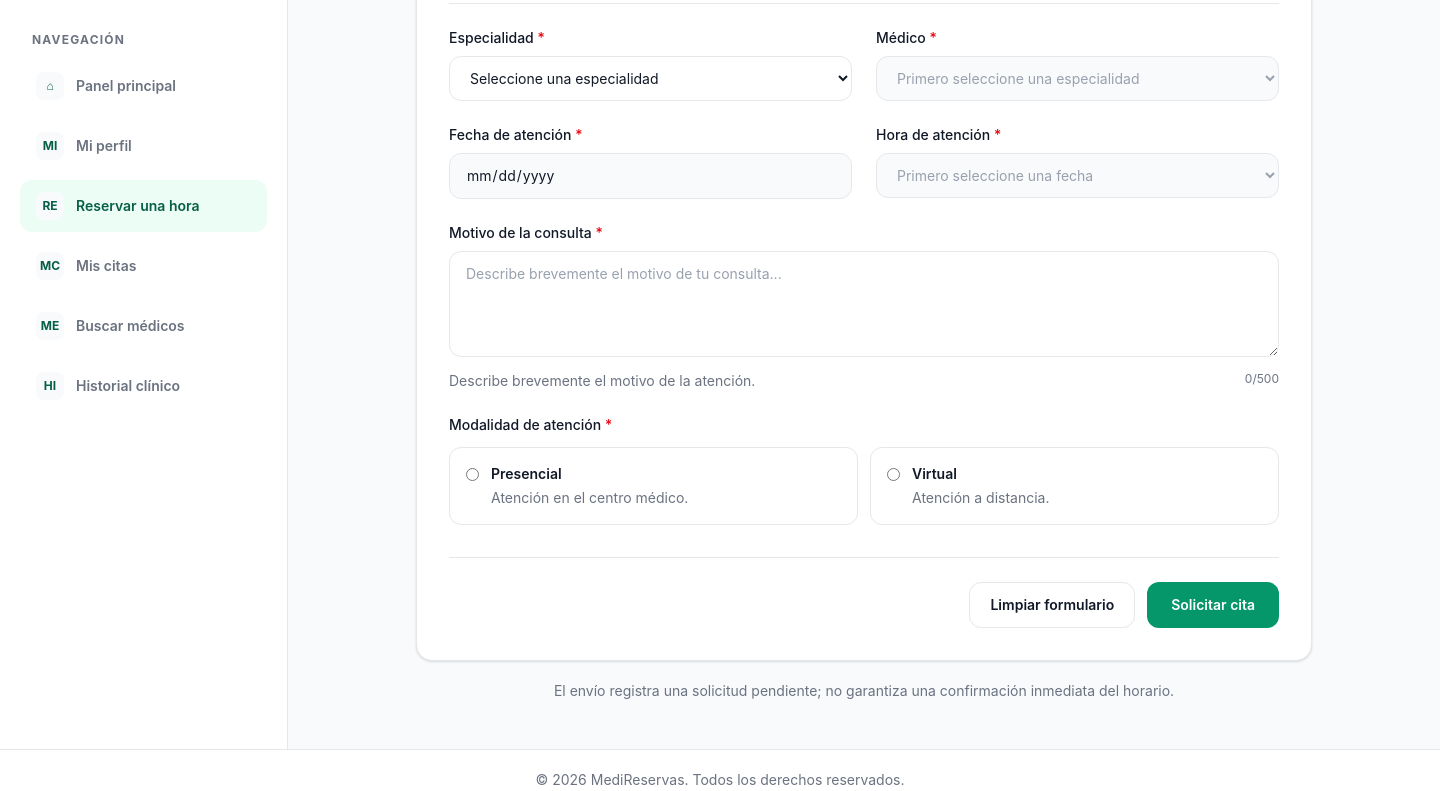
Test: Requisitos de citas en las pantallas por rol › CP-097 · RF-15/RF-16 · paciente valida el formulario y registra una cita
(page scrolled)
Step 1. Click the button "Solicitar cita" → (1213, 605), box [1147,582,1279,628]
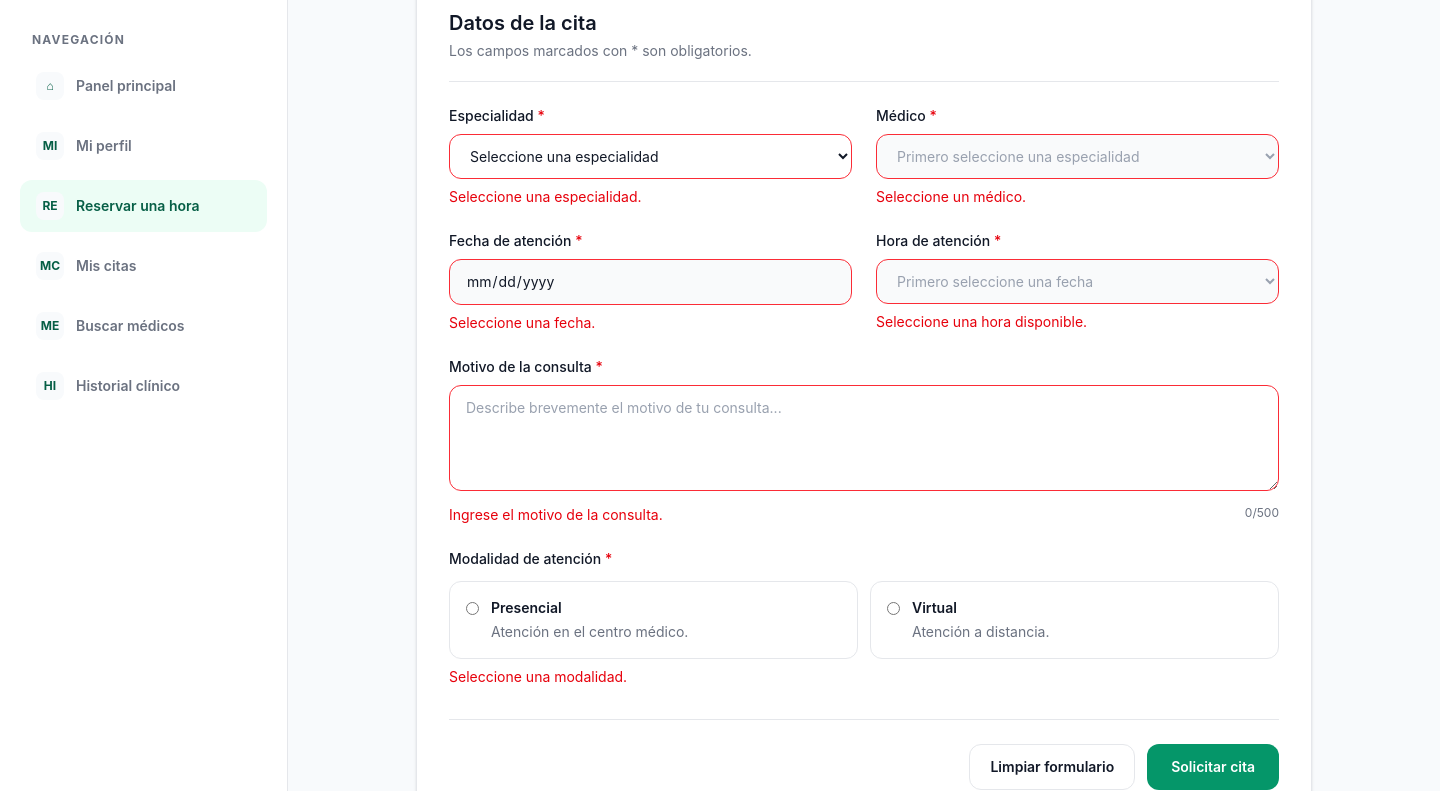
Step 2. Select "Cardiología" in the dropdown labelled "Especialidad *" → (650, 156), box [449,134,852,179]
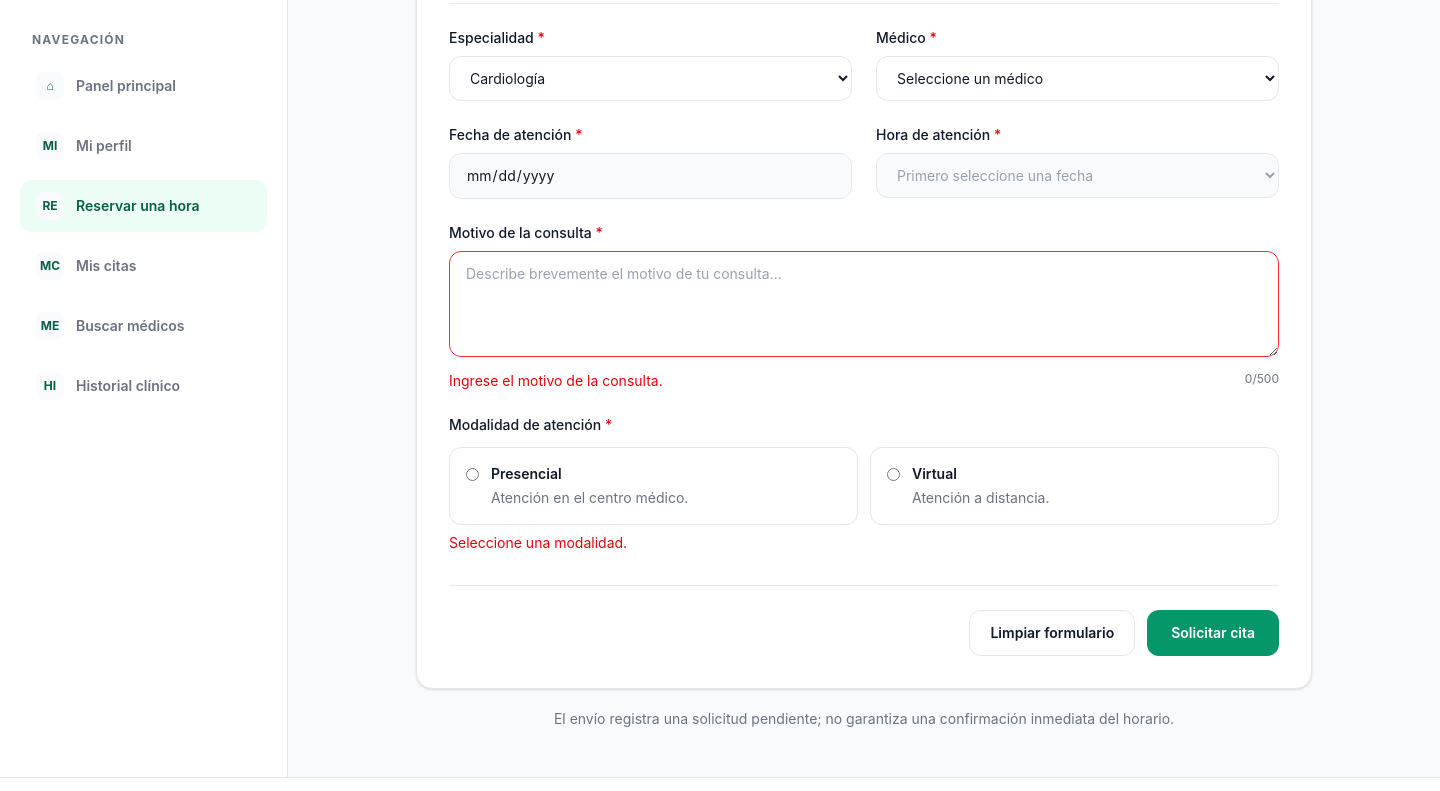
Step 3. Select "Daniela Rojas" in the dropdown labelled "Médico *" → (1078, 78), box [876,56,1279,101]
Step 4. Type "2026-10-12" into the date field labelled "Fecha de atención *" → (650, 176), box [449,153,852,199]
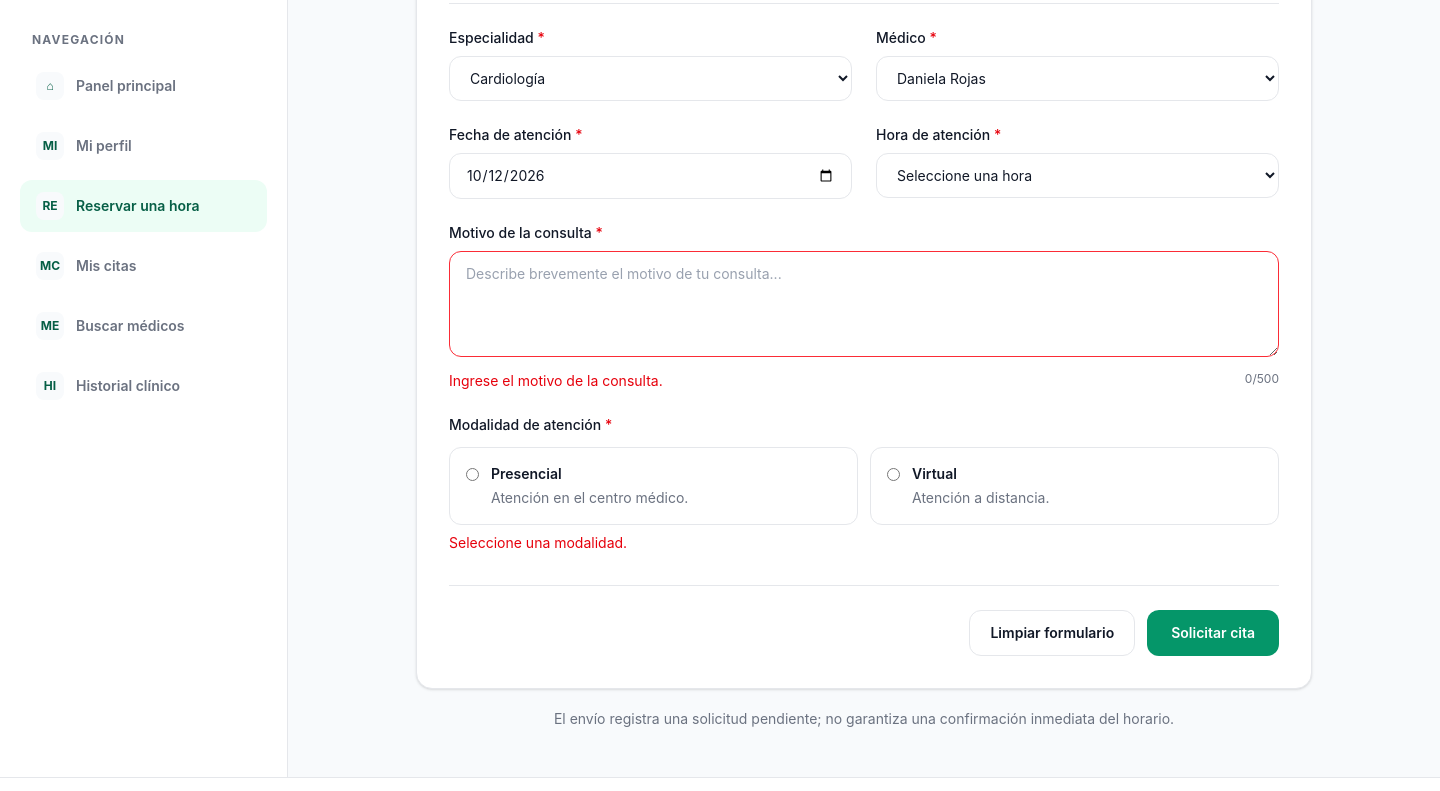
Step 5. Select "11:30" in the dropdown labelled "Hora de atención *" → (1078, 176), box [876,153,1279,198]
Step 6. Type "Control cardiológico" into the text box labelled "Motivo de la consulta *" → (864, 304), box [449,251,1279,357]
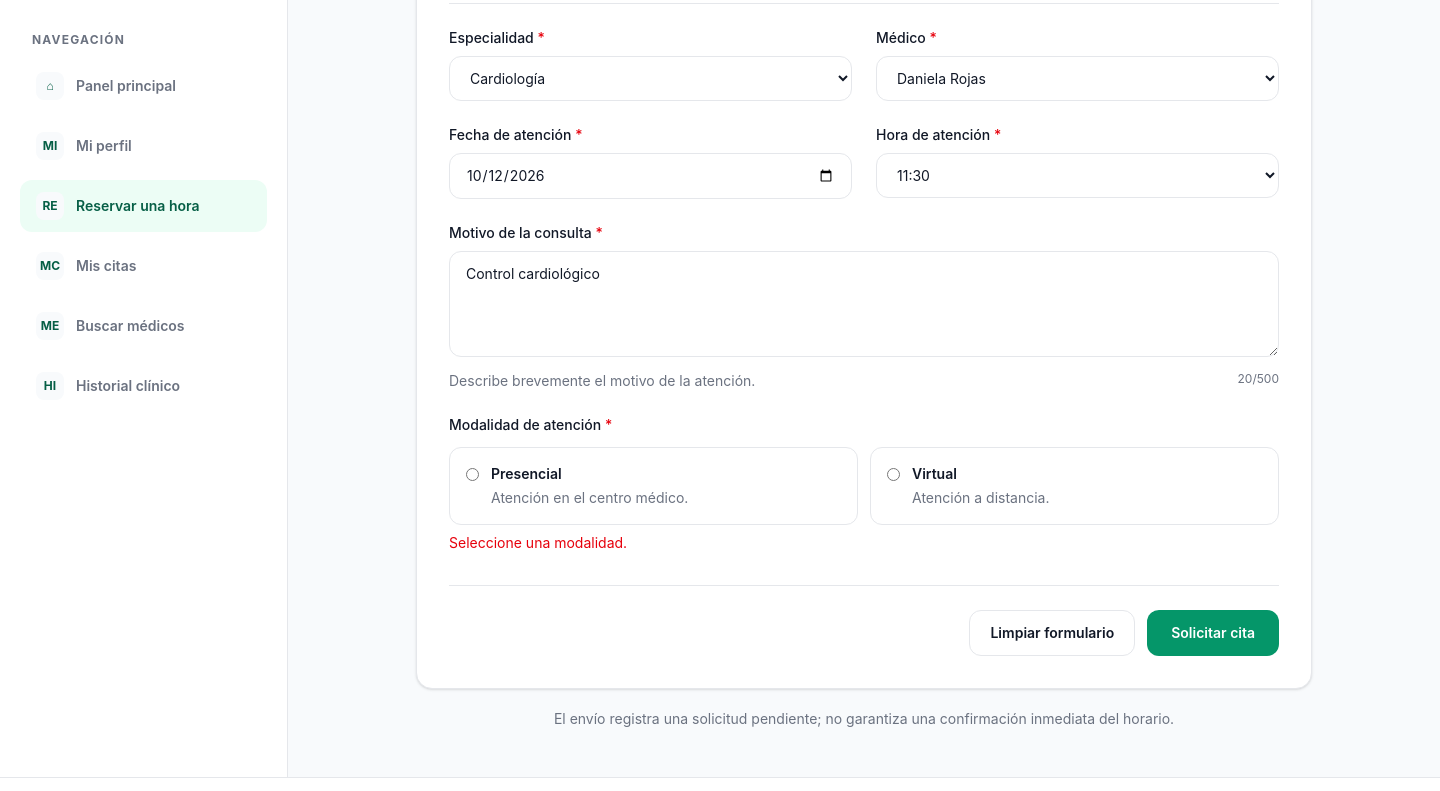
Step 7. Click the radio button labelled "Presencial Atención en el centro médico." → (472, 474), box [466,468,479,481]
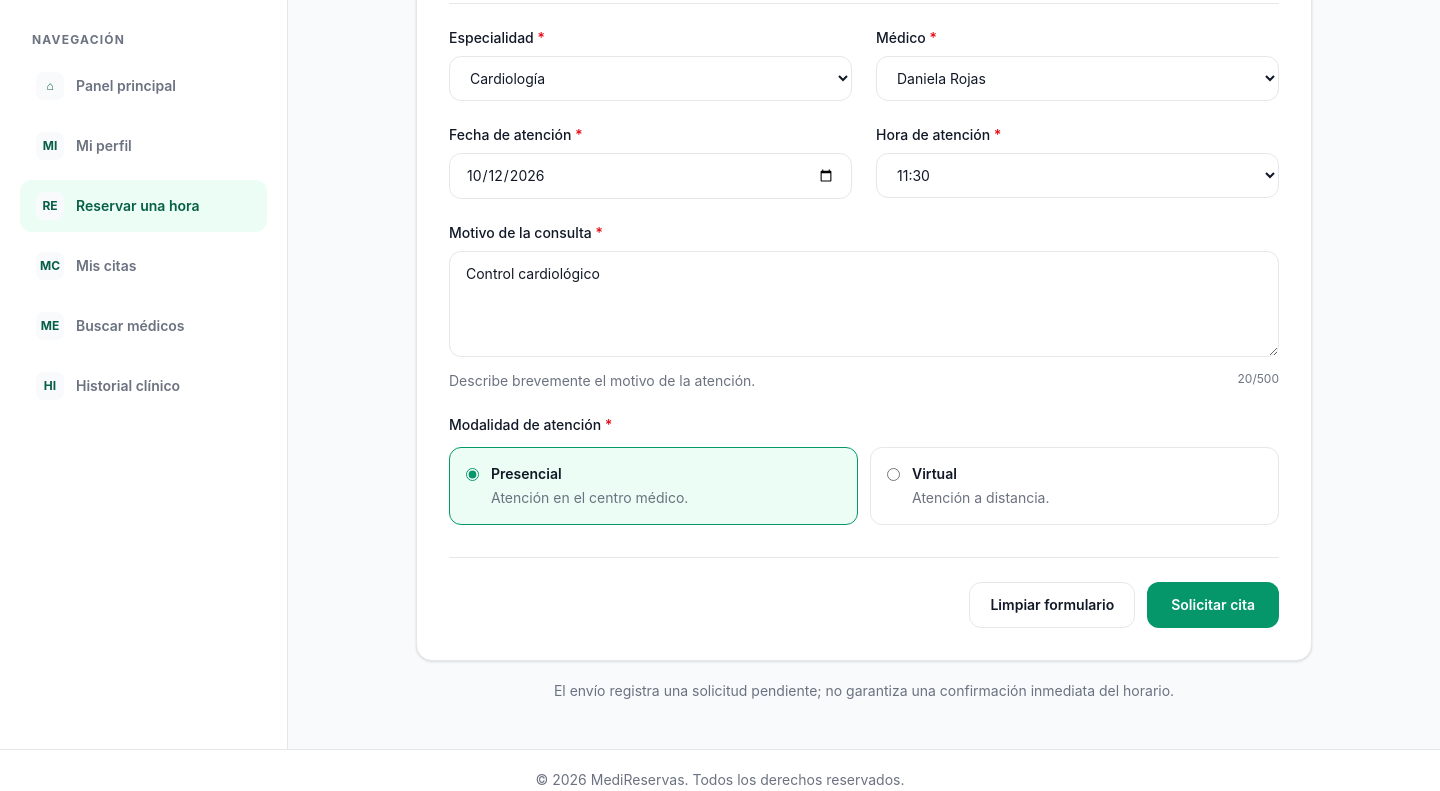
Step 8. Click the button "Solicitar cita" → (1213, 605), box [1147,582,1279,628]
(page scrolled)
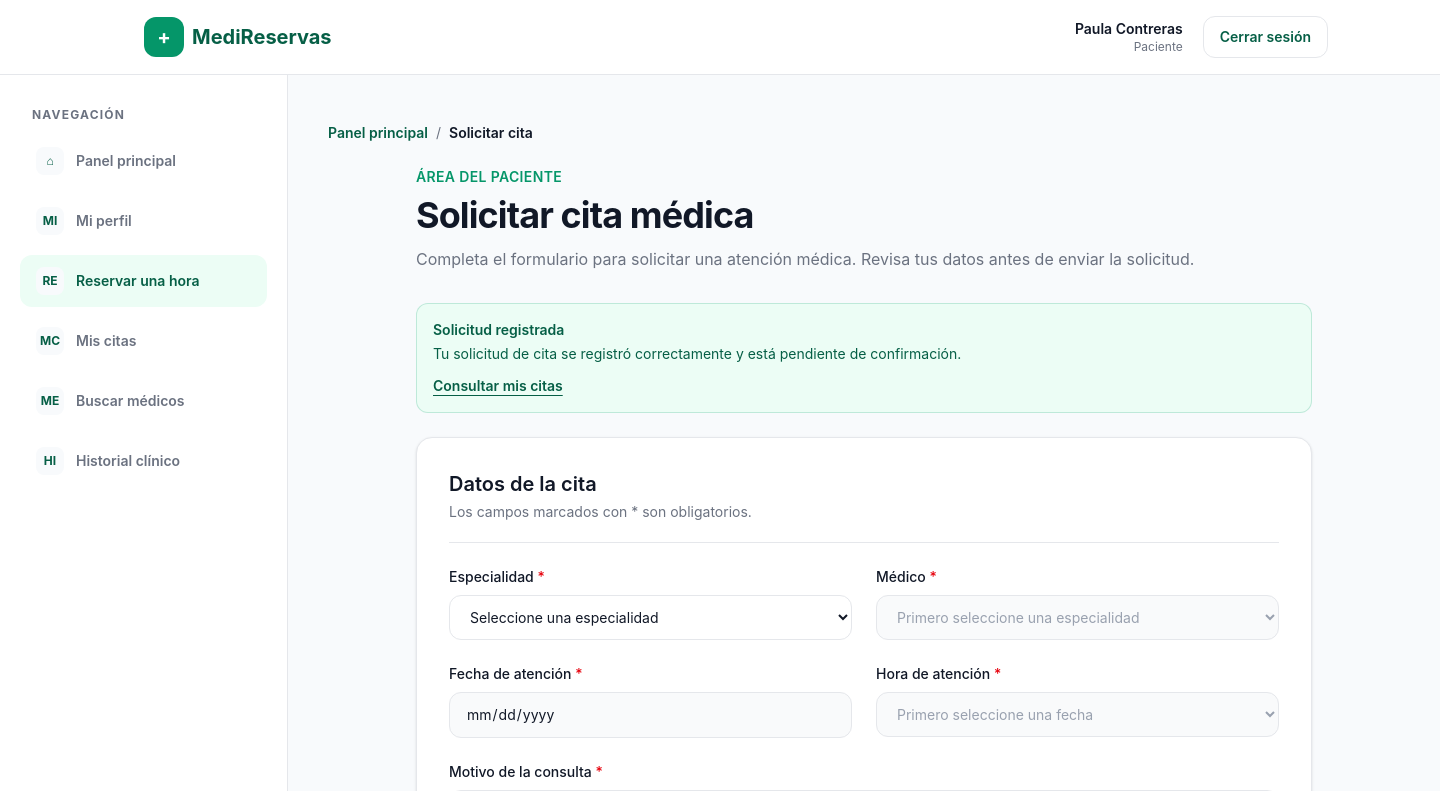
Expected: the message shows "Tu solicitud de cita se registró correctamente", [433,345,961,362]
